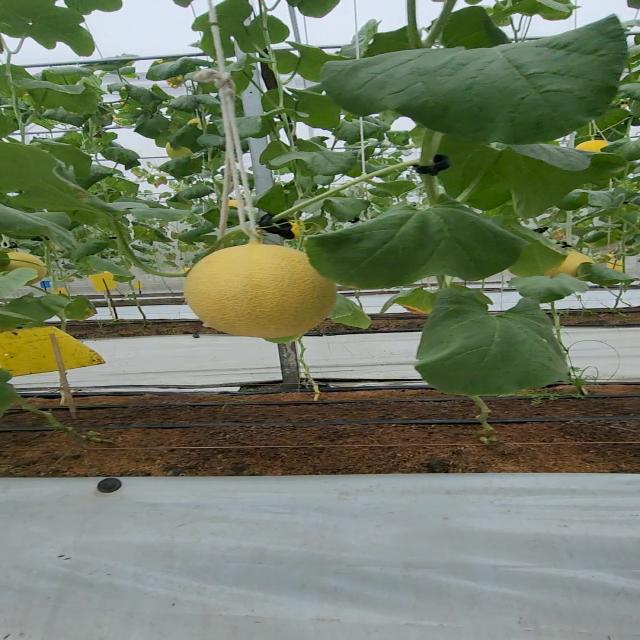Melon: (176, 242, 348, 344)
